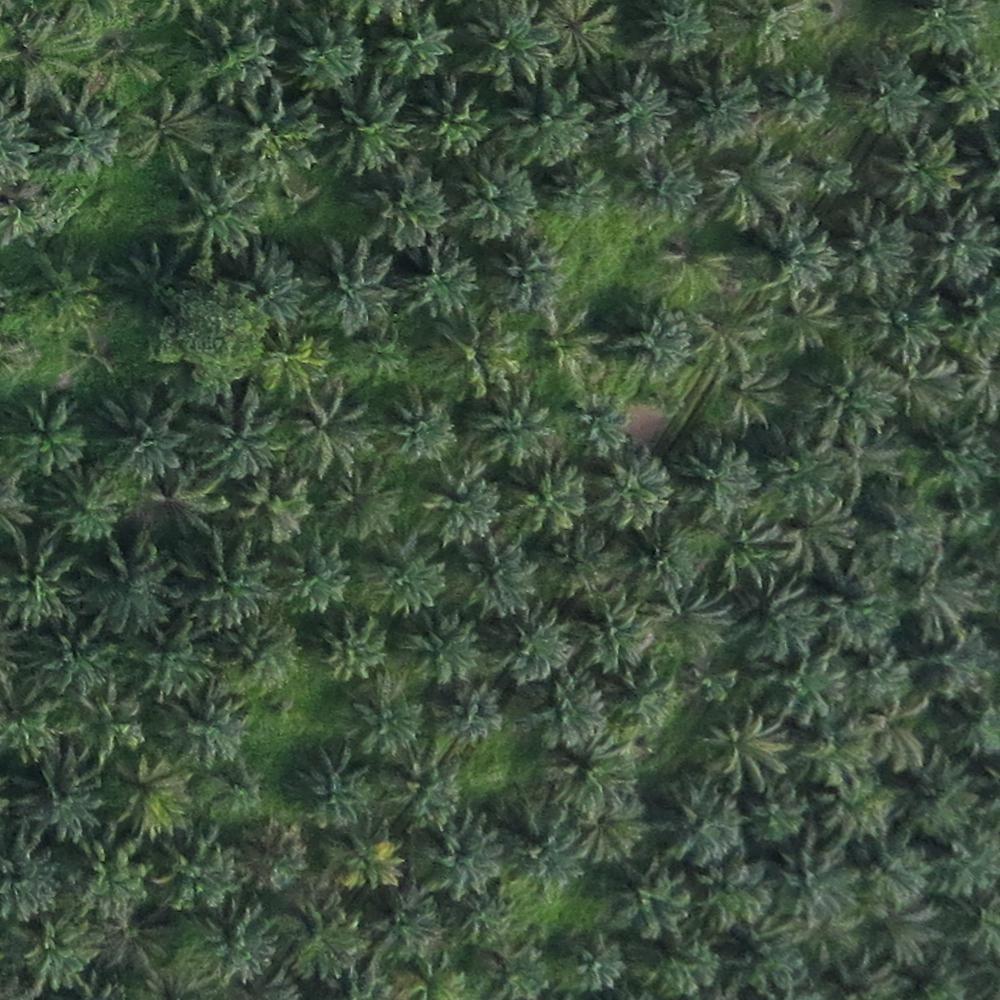Palm: (170, 536, 270, 627), (301, 235, 395, 331), (324, 79, 416, 171), (81, 545, 174, 636), (91, 392, 183, 483), (463, 5, 555, 92), (15, 750, 101, 841), (187, 392, 275, 479), (828, 204, 914, 293), (667, 438, 756, 524), (607, 298, 697, 380), (178, 176, 269, 257), (453, 161, 539, 246), (466, 390, 556, 471), (289, 746, 375, 830), (508, 81, 594, 165), (806, 358, 894, 440), (864, 282, 947, 367), (884, 128, 965, 214), (273, 12, 361, 91), (363, 165, 448, 246), (105, 762, 191, 841), (679, 69, 762, 150), (154, 832, 239, 910), (191, 908, 277, 985), (125, 629, 208, 708), (215, 623, 300, 700), (429, 816, 503, 904), (1, 397, 85, 474), (406, 79, 485, 160), (287, 899, 365, 981), (762, 212, 840, 294), (1, 546, 78, 629), (852, 48, 929, 131), (507, 463, 590, 540), (339, 686, 427, 758), (713, 154, 796, 230), (41, 464, 123, 540), (289, 393, 371, 469), (66, 842, 149, 917), (922, 212, 999, 292), (510, 805, 584, 888), (421, 471, 500, 548), (18, 914, 99, 989), (380, 388, 461, 463), (570, 595, 647, 672), (599, 77, 675, 155), (365, 541, 442, 617), (371, 5, 450, 79), (157, 694, 238, 766), (386, 760, 462, 834), (328, 826, 402, 901), (275, 542, 351, 615), (401, 244, 471, 322), (42, 102, 116, 175), (596, 458, 668, 533), (575, 785, 650, 857), (489, 247, 564, 318), (430, 680, 506, 750), (37, 626, 110, 697), (315, 612, 388, 683), (461, 549, 536, 618), (252, 328, 329, 394), (490, 621, 571, 682), (636, 4, 711, 69), (936, 47, 1000, 123), (412, 614, 481, 684), (636, 150, 701, 223), (530, 684, 600, 751), (624, 533, 690, 596), (568, 931, 632, 991), (565, 399, 630, 457), (767, 71, 830, 130)
